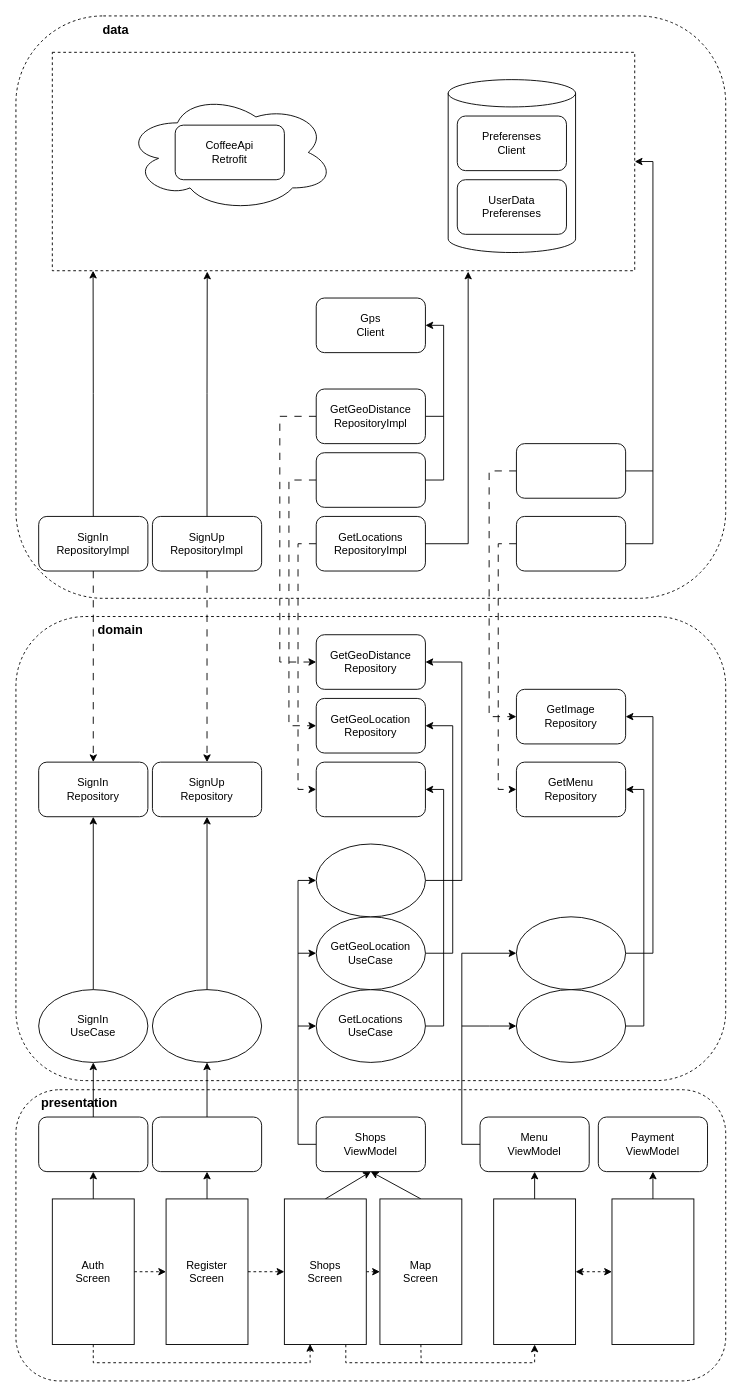
Image size: 742x1397. Some labels were removed from this diagram. The box of each missing label's shape, as (x1, y1, x2, y2) in pixels:
Auth ViewModel: (38, 1116, 148, 1172)
GetGeoDistance UseCase: (315, 843, 425, 917)
GetGeoLocation Repository Impl: (315, 452, 425, 507)
GetImage RepositoryImpl: (516, 443, 626, 498)
GetImage UseCase: (516, 916, 626, 990)
GetLocations Repository: (315, 761, 425, 817)
GetMenu RepositoryImpl: (516, 516, 626, 571)
GetMenu UseCase: (516, 989, 626, 1062)
Menu Screen: (493, 1198, 576, 1345)
Payment Screen: (611, 1198, 694, 1345)
Register ViewModel: (152, 1116, 262, 1172)
SignUp UseCase: (152, 989, 262, 1062)
